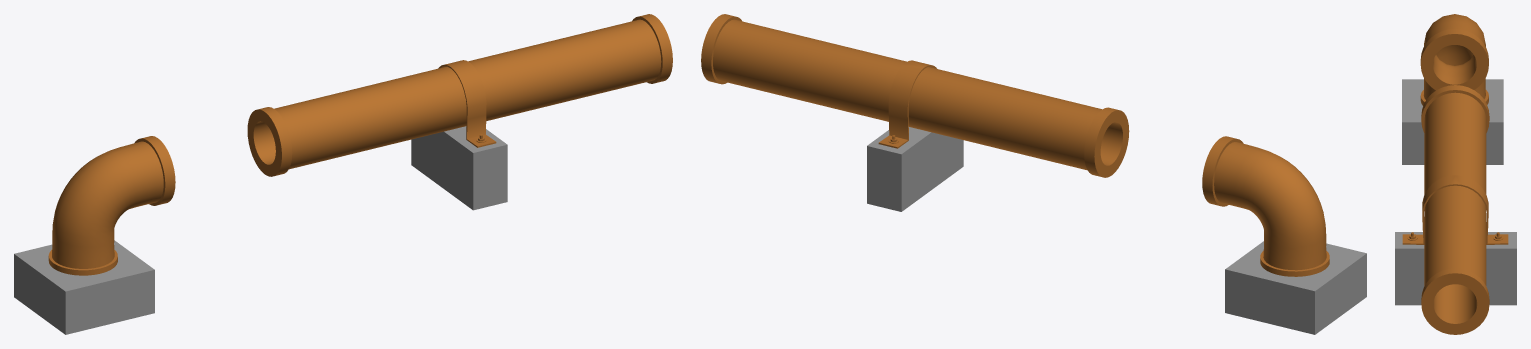
Rendered from pipes.glb.
The picture shows the model from 3 angles, left to right: view 1: azimuth 30°, elevation 25°; view 2: azimuth 150°, elevation 25°; view 3: azimuth 270°, elevation 25°; orthographic projection. The views are drawn at different scales.
Parts seen in each view (by area): view 1: Pipe_6_M_Pipes_0, Pipe_1_M_Pipes_0, Cube, Cube.001, Cylinder.002_M_Pipes_0; view 2: Pipe_6_M_Pipes_0, Pipe_1_M_Pipes_0, Cube, Cube.001, Cylinder.002_M_Pipes_0; view 3: Pipe_6_M_Pipes_0, Pipe_1_M_Pipes_0, Cube.001, Cube, Cylinder.002_M_Pipes_0.
Boxes of the visible parts, box(x1,y1,x2,y2) form: Pipe_6_M_Pipes_0: box(247, 14, 672, 176); Pipe_1_M_Pipes_0: box(48, 136, 175, 275); Cube: box(14, 240, 154, 334); Cube.001: box(411, 126, 507, 210); Cylinder.002_M_Pipes_0: box(438, 60, 496, 147); Pipe_6_M_Pipes_0: box(701, 14, 1129, 177); Pipe_1_M_Pipes_0: box(1202, 136, 1329, 276); Cube: box(1225, 241, 1366, 334); Cube.001: box(867, 127, 963, 211); Cylinder.002_M_Pipes_0: box(878, 60, 936, 148); Pipe_6_M_Pipes_0: box(1421, 85, 1489, 334); Pipe_1_M_Pipes_0: box(1420, 14, 1488, 105); Cube.001: box(1395, 232, 1516, 305); Cube: box(1402, 79, 1503, 164); Cylinder.002_M_Pipes_0: box(1402, 175, 1508, 244).
Bounding box in the file's own units: 67.94 × 15.57 × 11.78.
